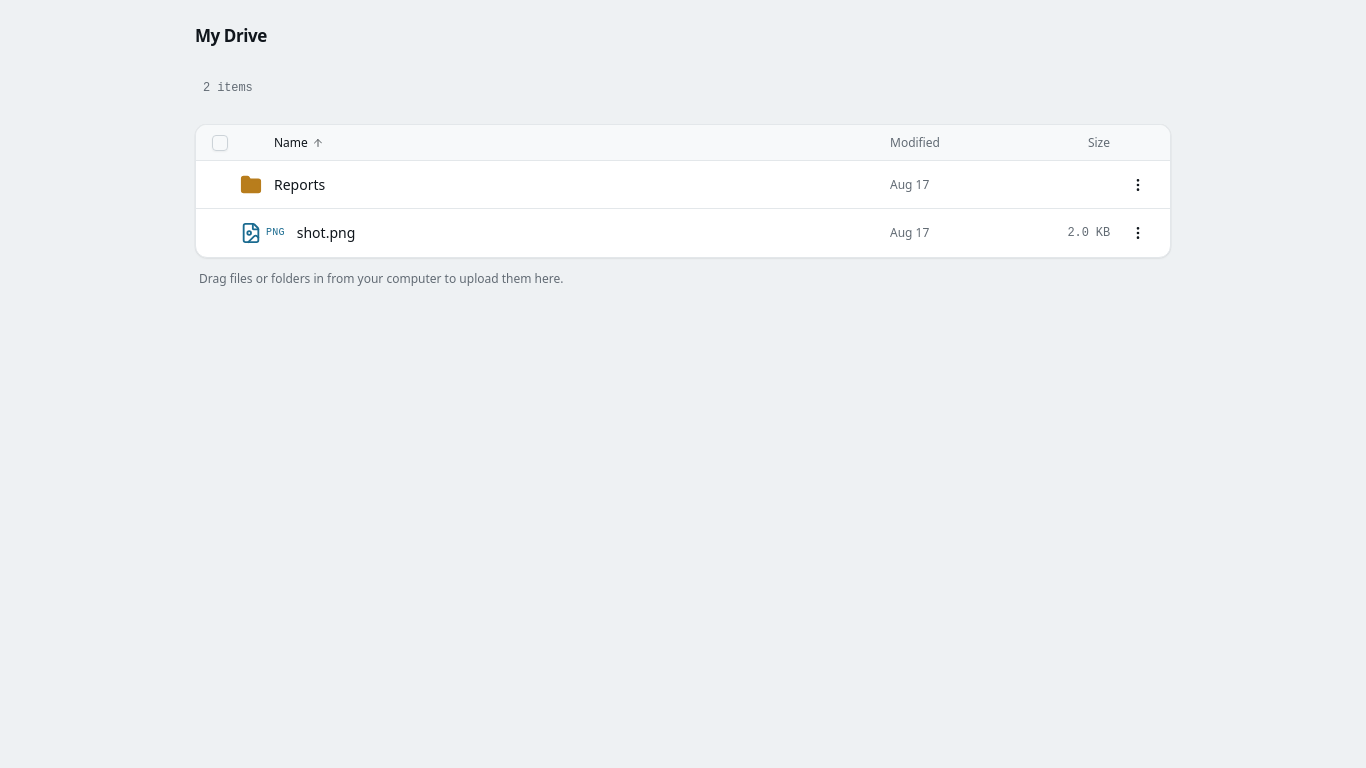
opening a preview › opens the same viewer from the row menu
The width and height of the screenshot is (1366, 768).
expect the link "shot.png" is shown: met, box [297,223,355,242]
What coordinates should you click on to do the following:
click the button named "Actions for shot.png"
I would click on:
 (1138, 233)
Its box is [1122,217,1154,249].
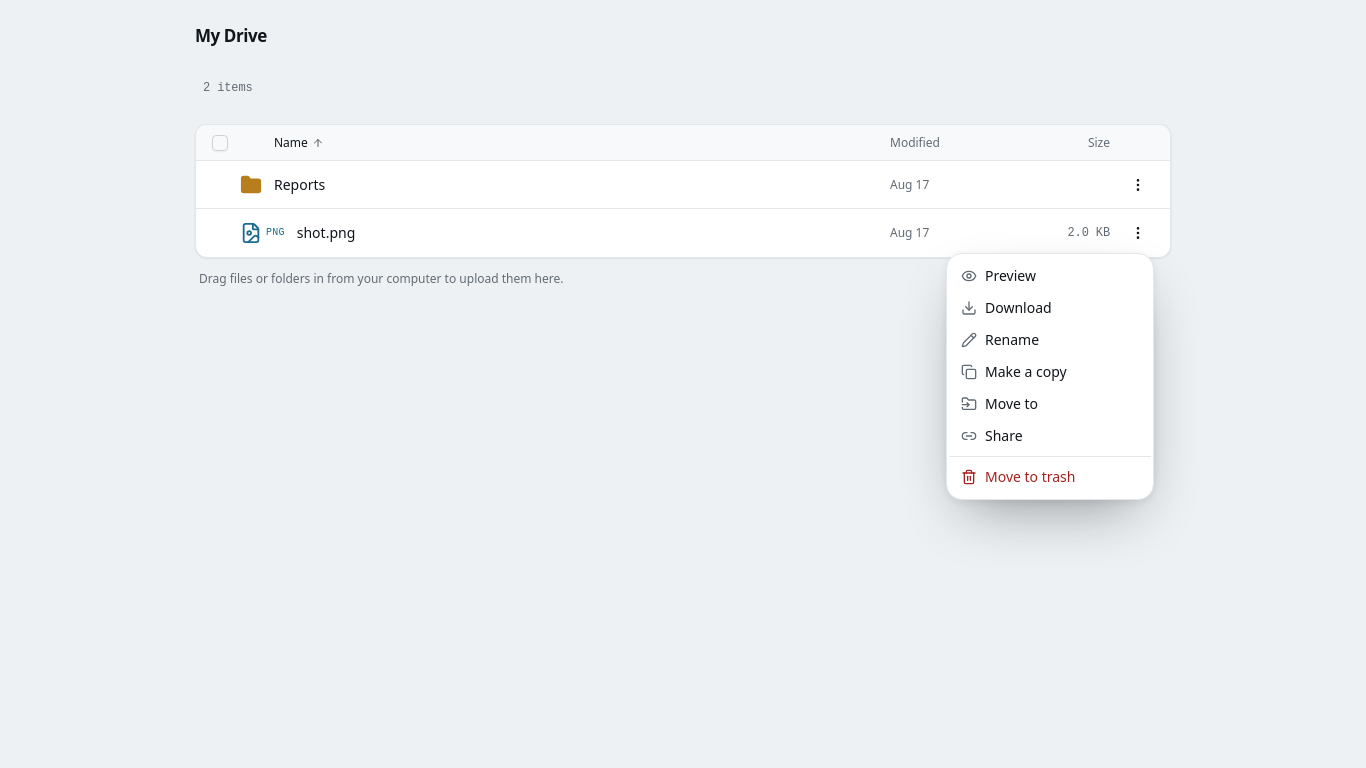
What coordinates should you click on to do the following:
click the menu item "Preview"
I would click on:
 (998, 276)
Its box is [961,266,1036,285].
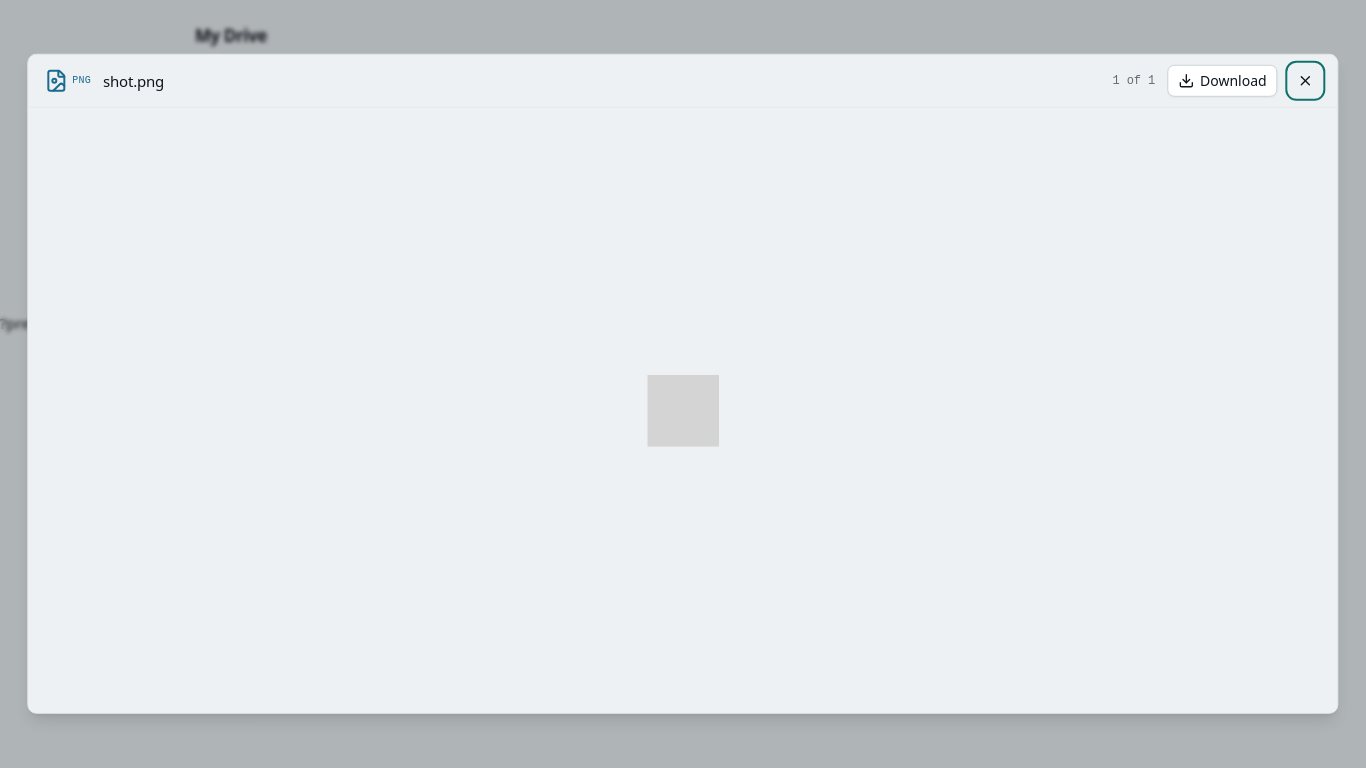
expect the text with test id "where" reads "?preview=f2": met, box [0,313,84,333]
